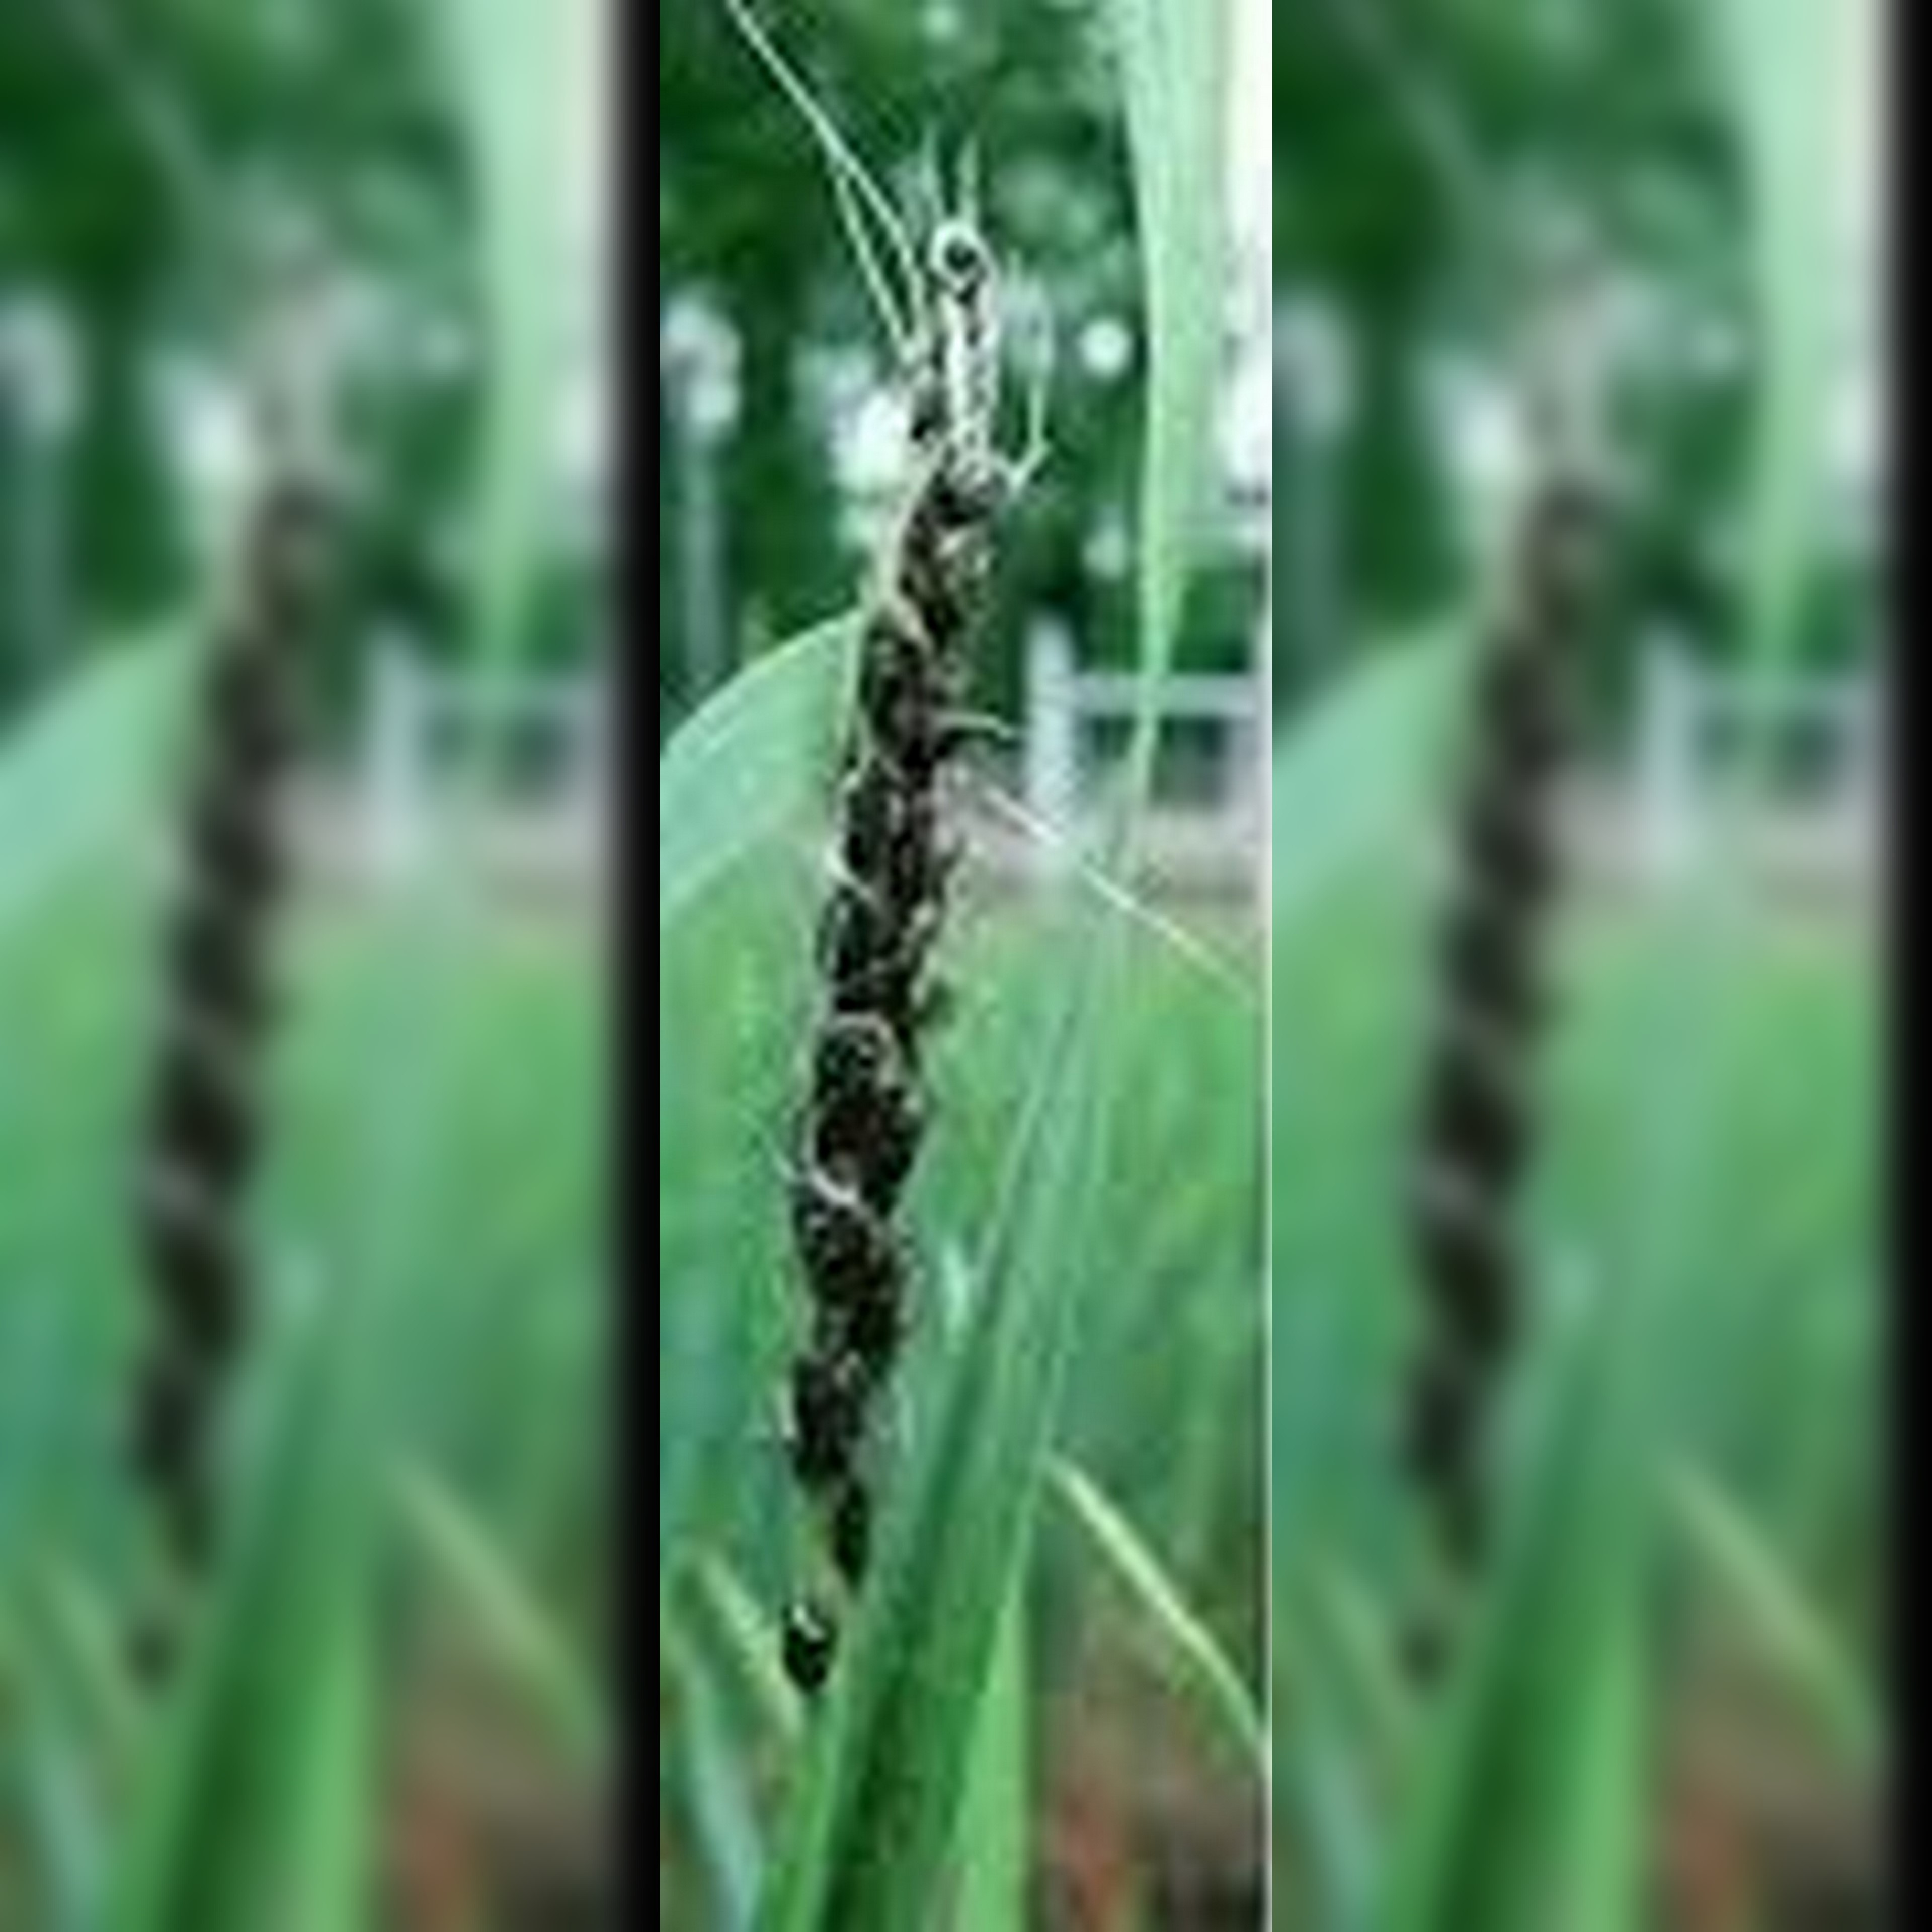Wheat Loose Smut: (752, 439, 1060, 1553)
